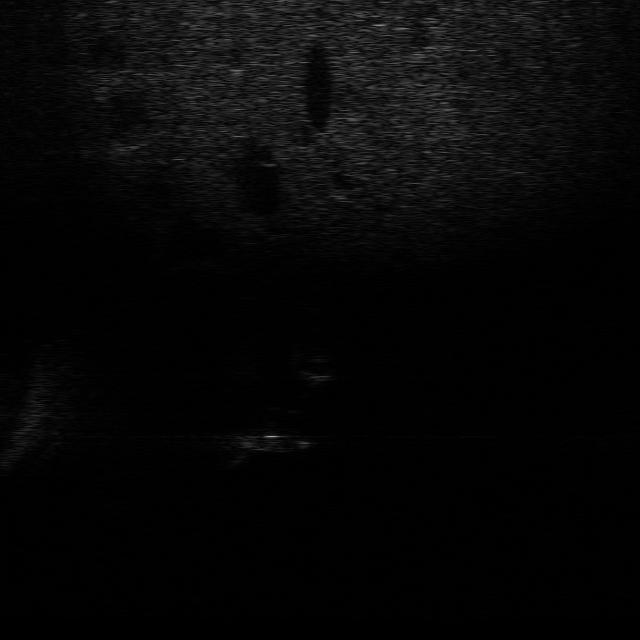ball: (291, 349, 339, 384)
square cage: (225, 422, 313, 456)
